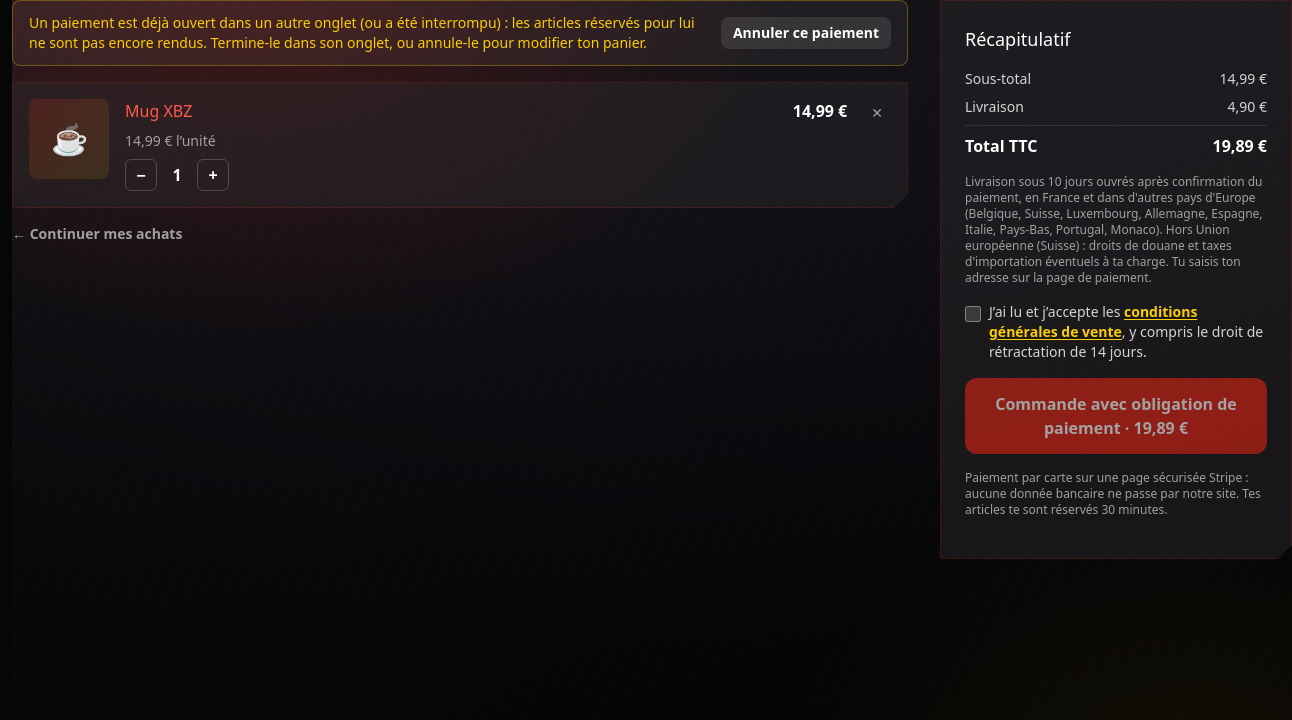
CartView : paiement ouvert ailleurs — garde-fous › « Annuler ce paiement » qui échoue (hors ligne) : le bandeau RESTE et l'erreur est dite
Click the button "Annuler ce paiement" at coordinates (806, 33), box [721,17,891,49]
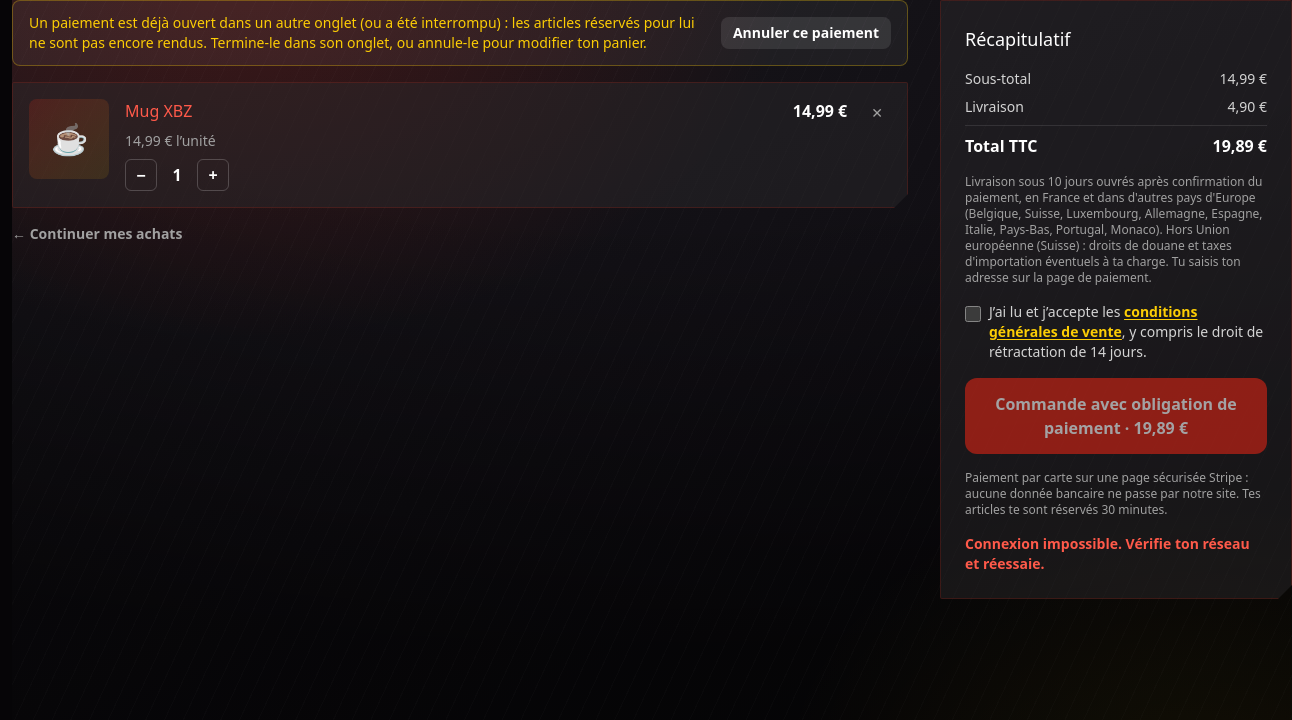
Check: the text "Un paiement est déjà ouvert dans un autre onglet (ou a été interrompu) : les articles réservés pour lui ne sont pas enco" is shown, box [29,13,695,52]
Check: the text "Connexion impossible. Vérifie ton réseau et réessaie." is shown, box [965,534,1267,574]
